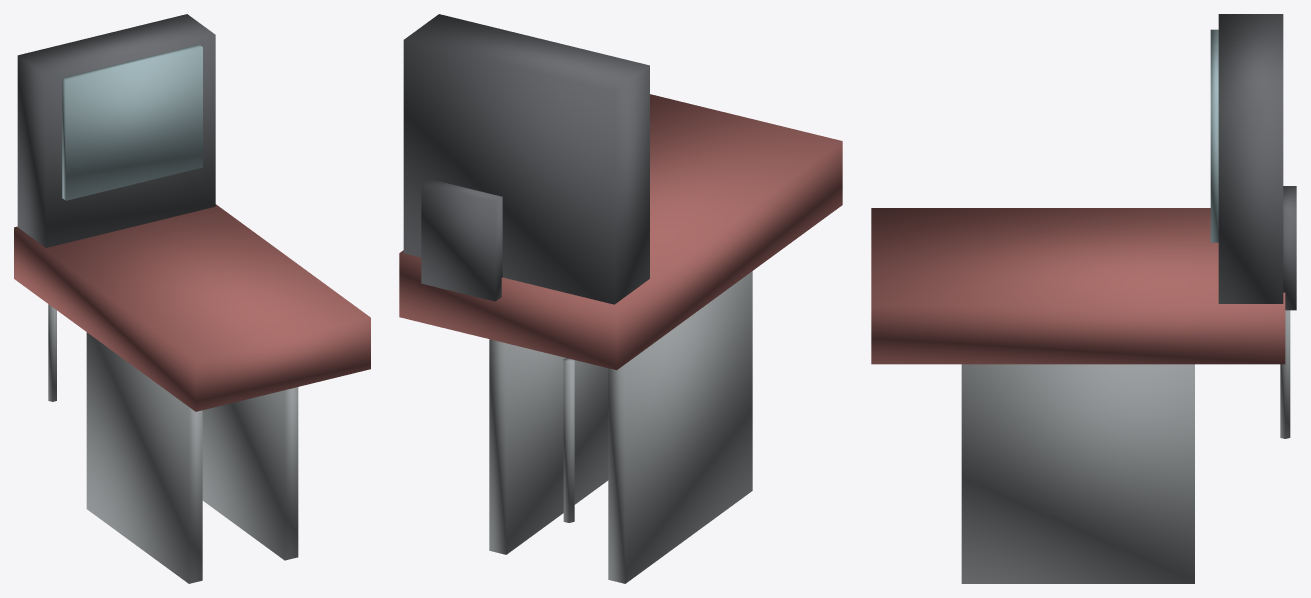
File: pinball_machine__service.glb
3 renders of one model, left to right at view 1: azimuth 30°, elevation 25°; view 2: azimuth 150°, elevation 25°; view 3: azimuth 270°, elevation 25°, orthographic. The views are drawn at different scales.
Visible parts, largest first — view 1: world; view 2: world; view 3: world.
Boxes of the visible parts, x1,y1,x2,y2 form: world: (14, 14, 370, 583); world: (399, 14, 842, 583); world: (871, 14, 1296, 583).
Size of the model in its own units: 0.64 by 1.51 by 1.18.
